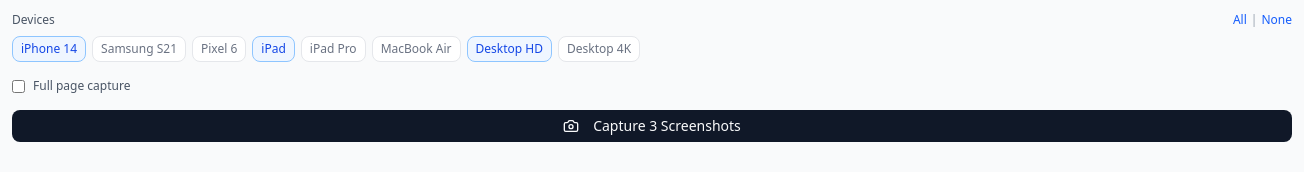
Test case: ScreenshotPanel › toggles device selection when clicked
The width and height of the screenshot is (1304, 172).
Note: Click to deselect iPhone 14 (one of the defaults)
Click the button "iPhone 14" at (49, 49), box [12,36,86,62]
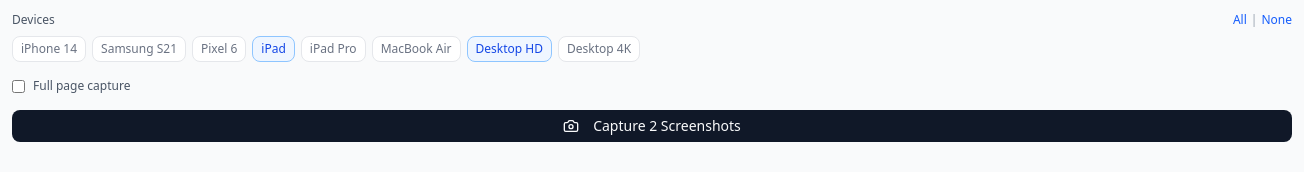
Check: the button "Capture 2 Screenshots" is shown, box [12,110,1292,142]
